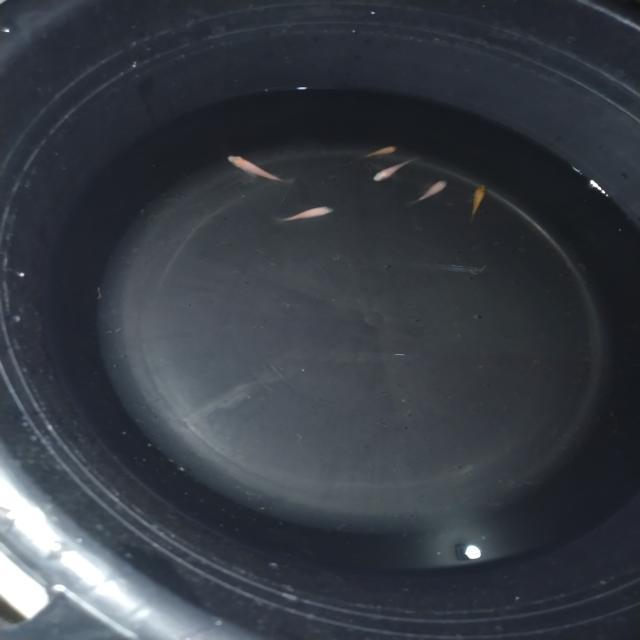nila: (224, 150, 302, 187), (370, 152, 422, 185), (404, 177, 449, 210), (272, 202, 344, 222), (352, 142, 403, 163), (466, 178, 491, 218)
